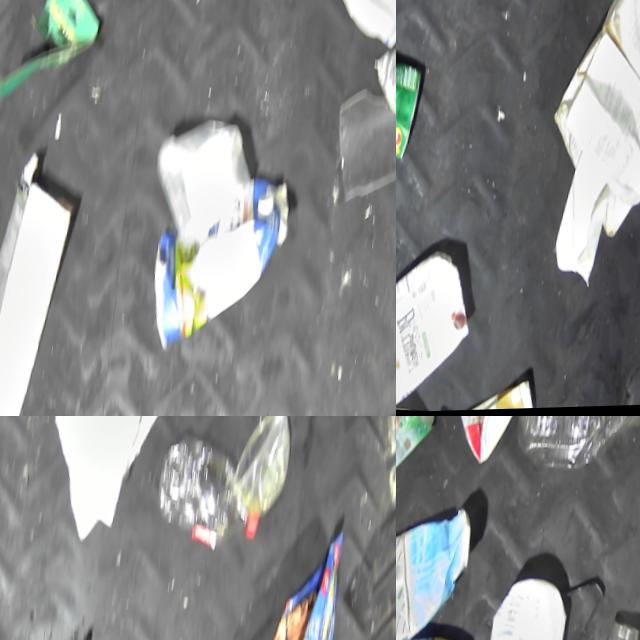can: (396, 53, 426, 159), (367, 44, 396, 121)
milk_jug: (481, 568, 576, 640), (292, 0, 396, 55)
non_white_jug: (148, 170, 295, 360), (396, 504, 475, 640), (396, 416, 442, 501)
plastic_bottle: (35, 416, 206, 545), (158, 437, 272, 548), (512, 416, 640, 473)
